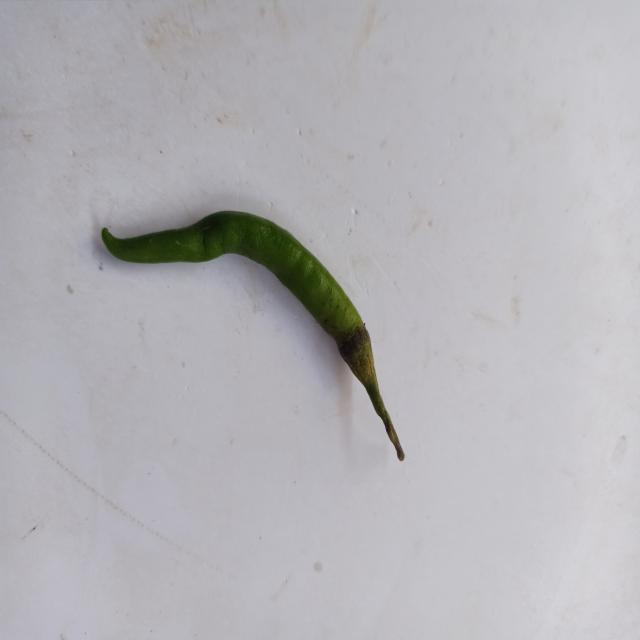Cabbage: (101, 210, 405, 460)
Green Chilly: (101, 210, 405, 460)
